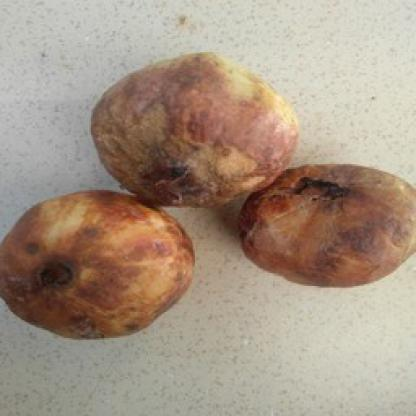guava_rotten: (83, 48, 296, 210), (0, 186, 196, 340), (234, 157, 415, 293)
